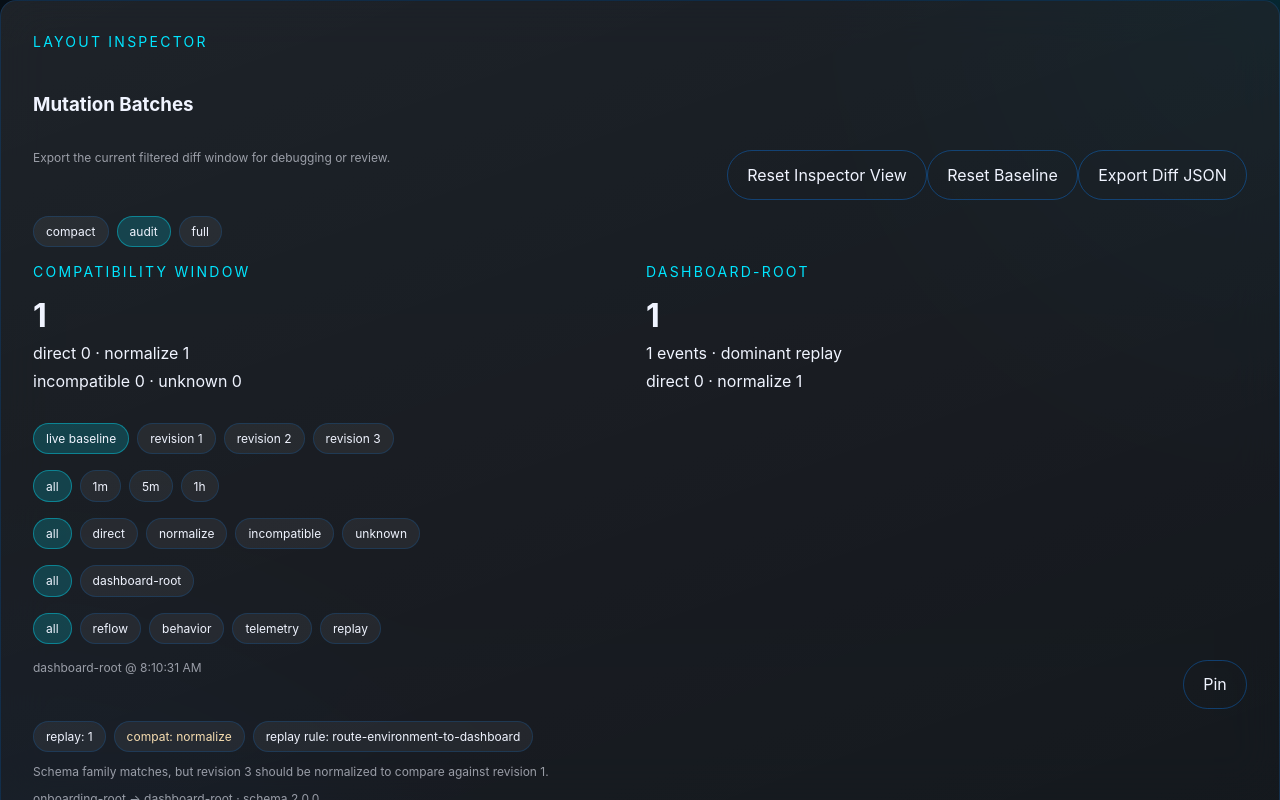
it: LayoutInspectorPanel › switches comparison baseline revisions through fixture controls
Check: the text "compat: normalize" is shown, box [114,721,245,752]
Click the button "revision 2" at (264,439), box [224,423,305,454]
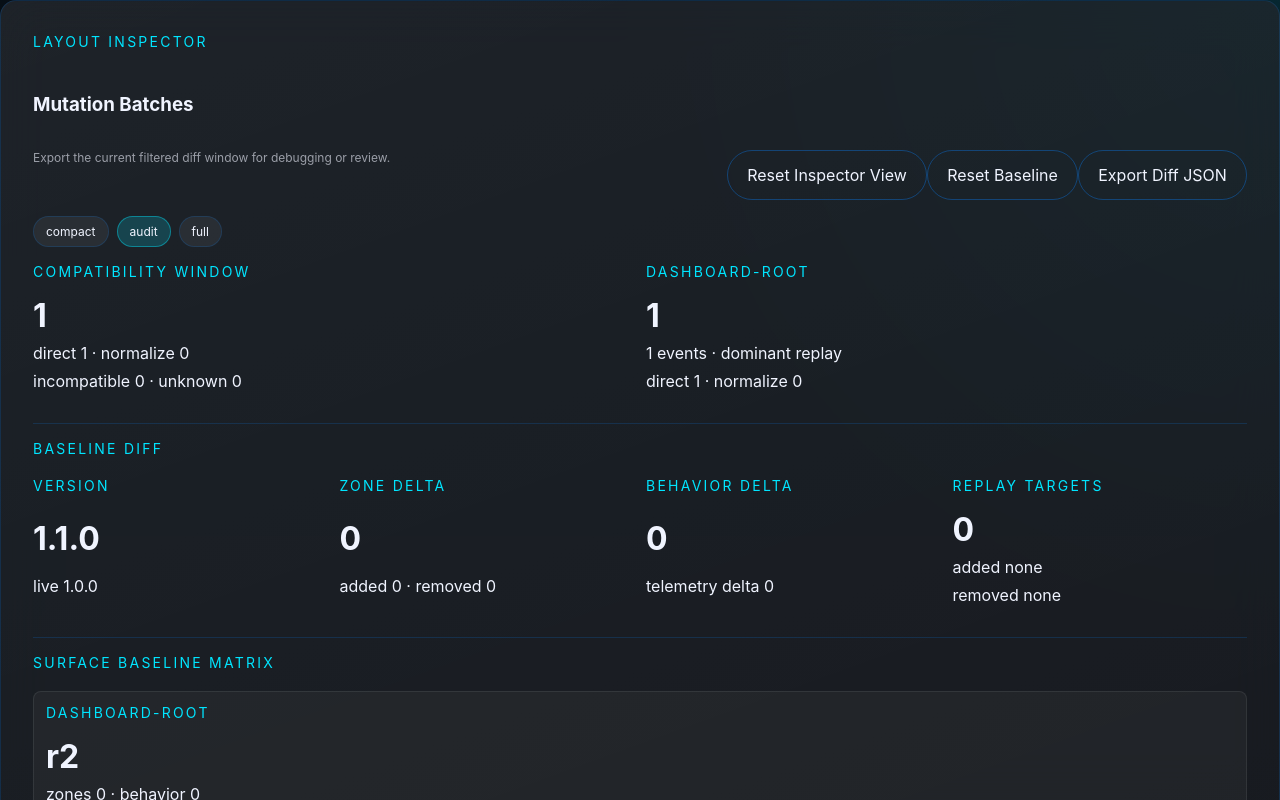
Check: the text "Baseline Diff" is shown, box [33,440,163,457]
Check: the text "Surface Baseline Matrix" is shown, box [33,654,275,671]
Click the button "Export Diff JSON" at (1162,175), box [1078,150,1247,200]
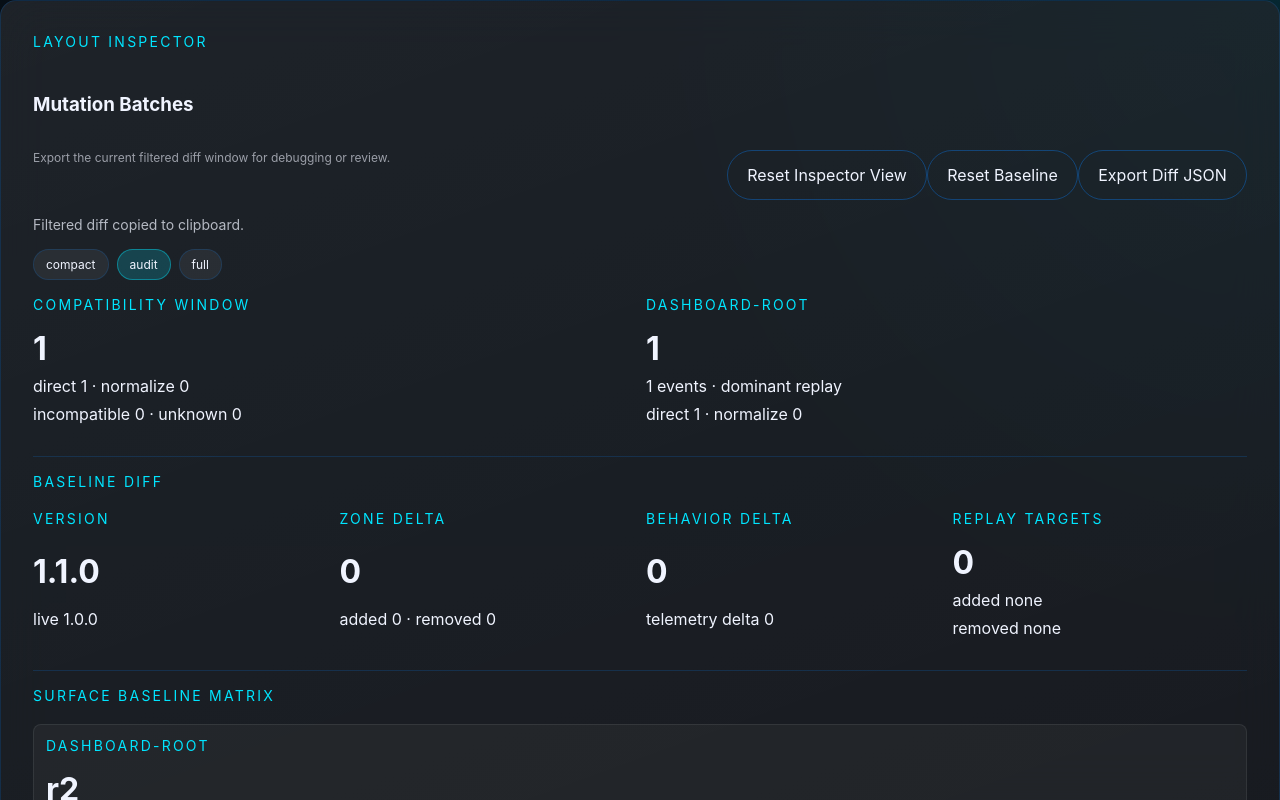
Check: the text "Filtered diff copied to clipboard." is shown, box [33,216,244,233]
